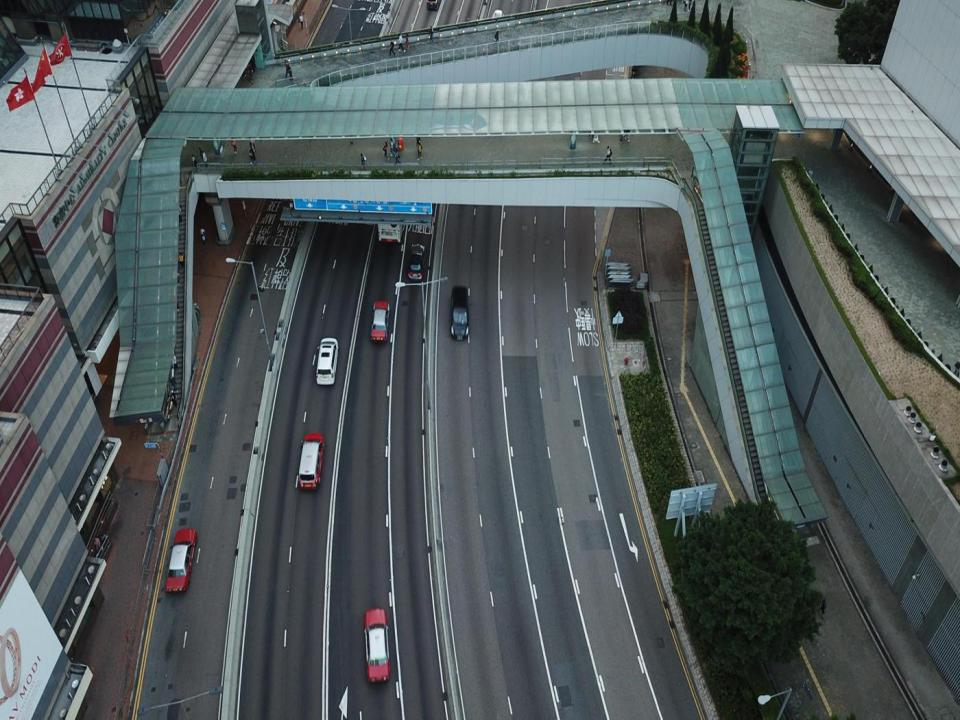bus: (376, 168, 404, 242), (492, 10, 503, 37)
car: (166, 529, 196, 591), (364, 606, 388, 682), (295, 434, 324, 488), (315, 339, 338, 385), (451, 286, 469, 340), (371, 303, 389, 343), (408, 244, 424, 280), (426, 0, 441, 9)
